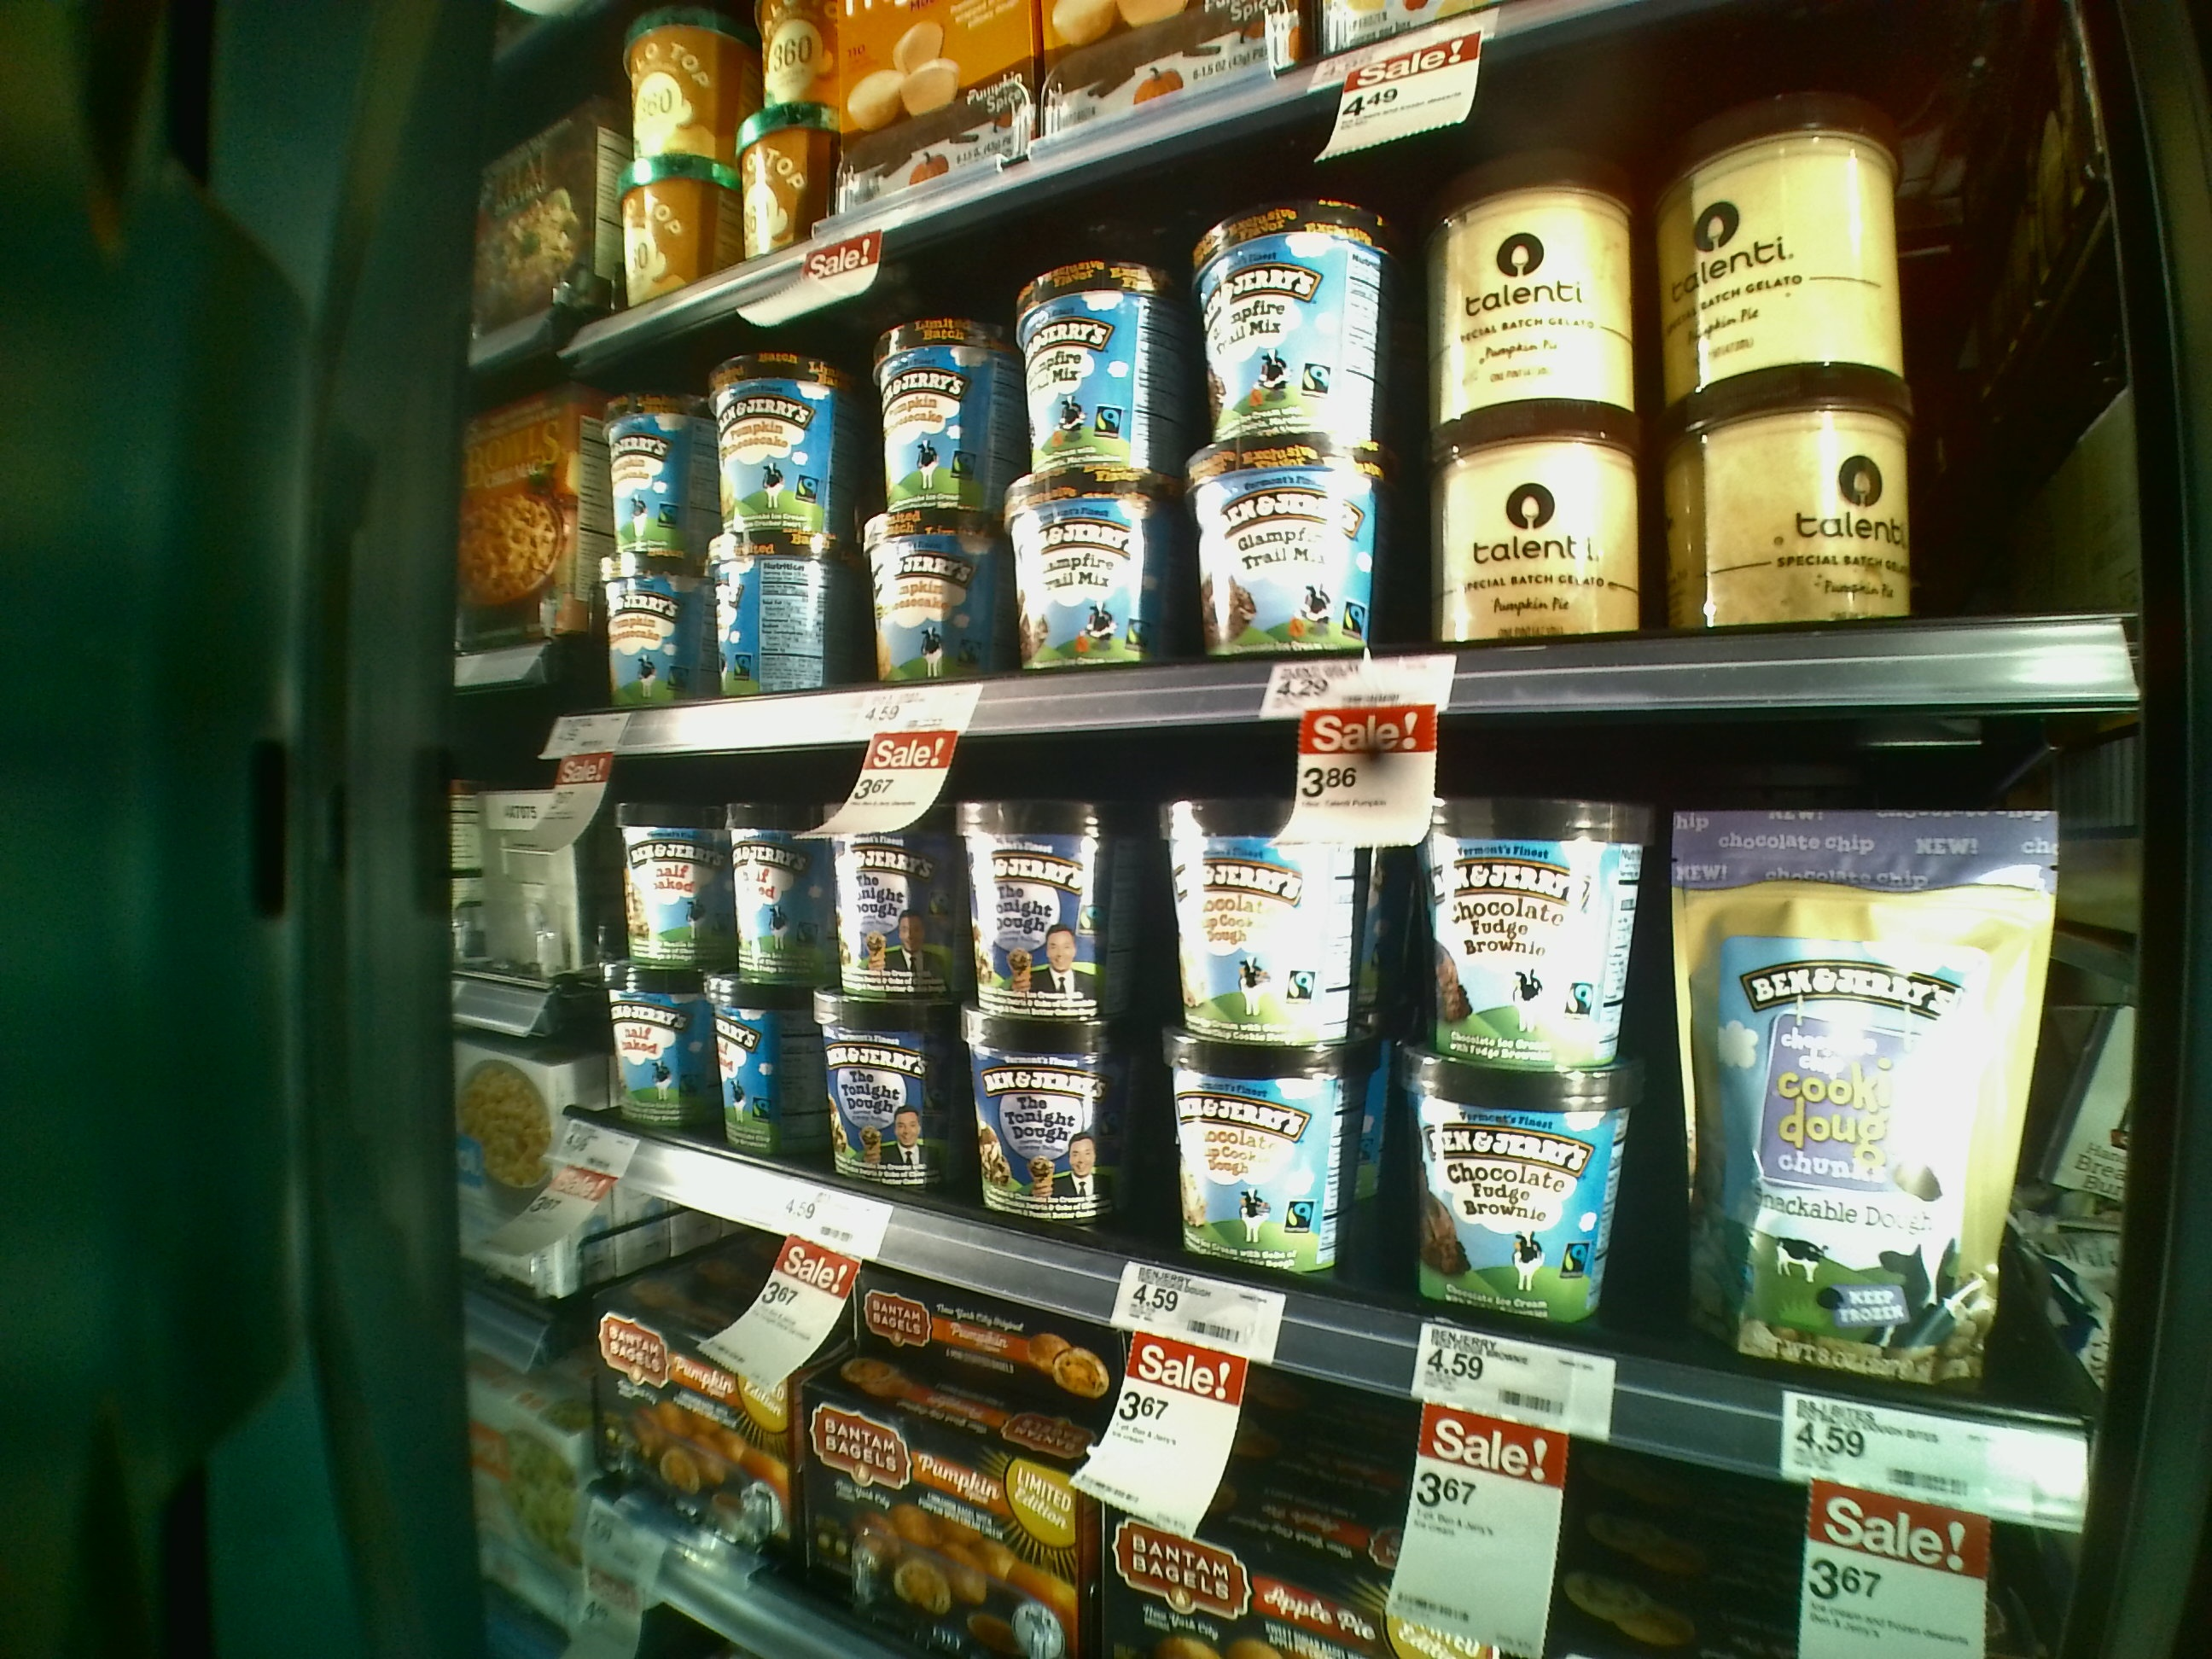shelf: (550, 688, 2090, 1500), (564, 258, 2121, 695)
